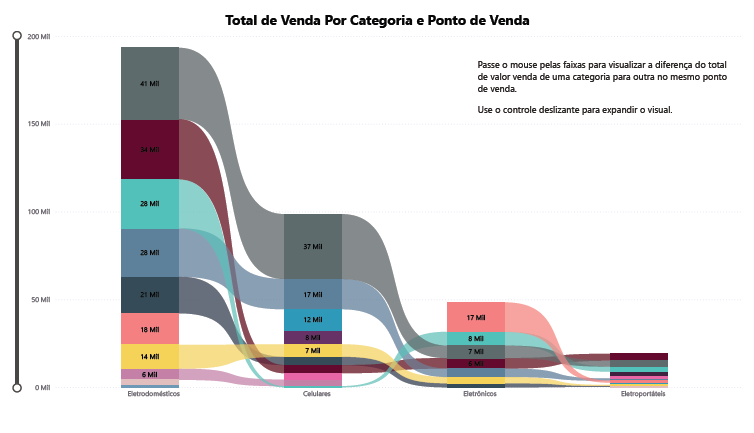

Layout of this report page (visuals, bound fields, positions):
{"tool":"powerbi","page":{"name":"Faixas de Vendas Por Categorias e Pontos de Vendas","canvas":[1280,720],"ordinal":3},"visuals":[{"type":"ribbonChart","title":"Total de Venda Por Categoria e Ponto de Venda","fields":{"Category":["DadosComerciais.Categoria"],"Y":["Sum(DadosComerciais.Valor Venda)"],"Series":["DadosComerciais.Loja"]},"box":[0,0,1280,688.6],"z":0},{"type":"textbox","box":[810,78.6,458.6,111.4],"z":1}]}

Visuals, with their boxes in screenshot pixels (x1, y1, x2, y2), scaled from the page's 1280x720 canvas onto the 754x433 screenshot:
"Total de Venda Por Categoria e Ponto de Venda" ribbonChart: [0, 0, 753, 414]
textbox: [477, 47, 747, 114]
